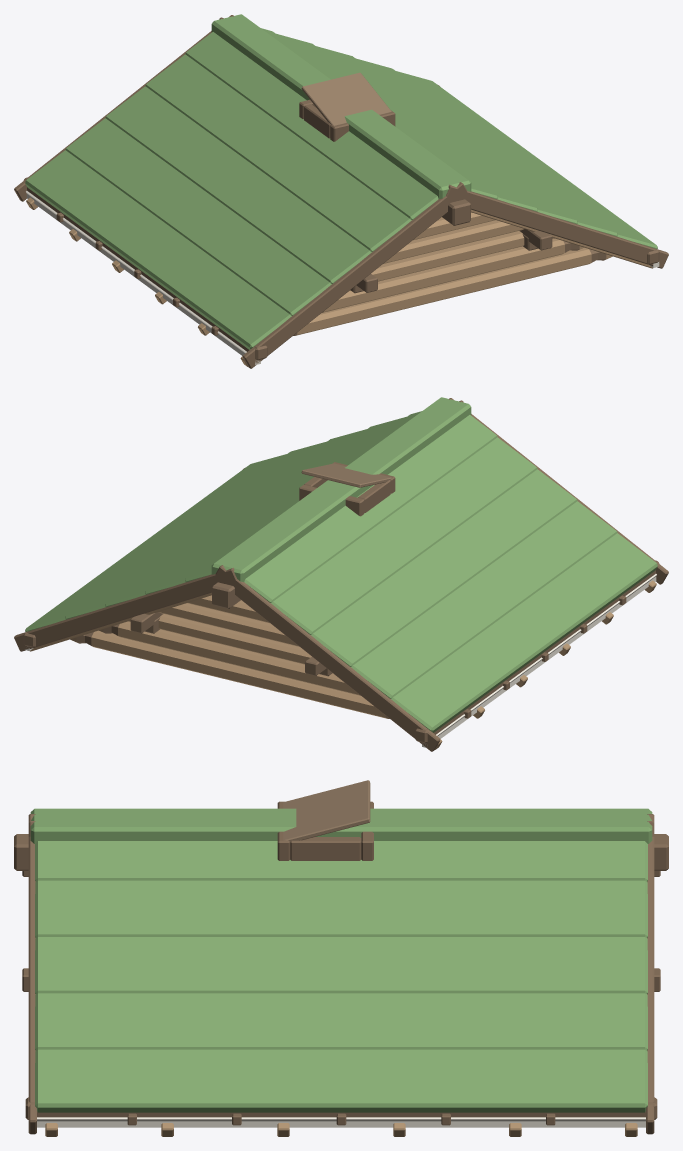
Rendered from stage_3_roof.glb.
3 renders of one model, top to bottom at view 1: azimuth 30°, elevation 25°; view 2: azimuth 150°, elevation 25°; view 3: azimuth 270°, elevation 25°, orthographic. The views are drawn at different scales.
Visible parts, largest first — view 1: stage_3_roof; view 2: stage_3_roof; view 3: stage_3_roof.
Boxes of the visible parts, x1,y1,x2,y2 form: stage_3_roof: [14, 14, 668, 368]; stage_3_roof: [14, 397, 668, 751]; stage_3_roof: [14, 780, 668, 1136].
Bounding box in the file's own units: 6.33 × 2.16 × 6.26.
